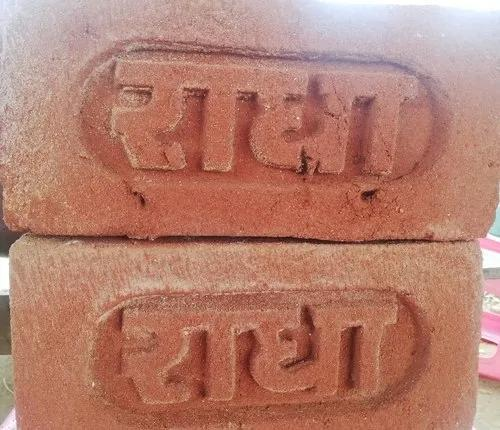brick: (0, 3, 500, 237), (13, 243, 480, 429)
